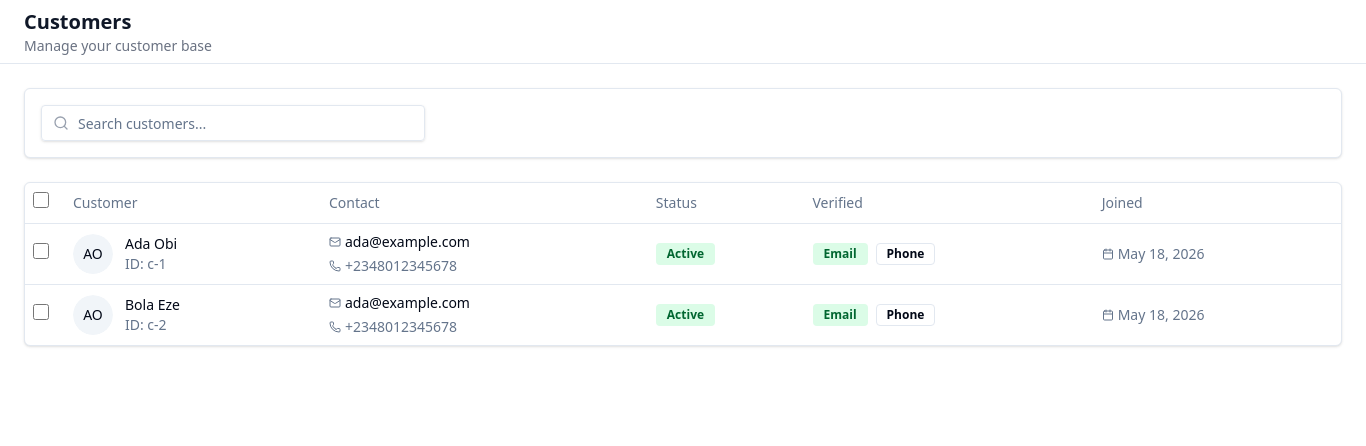
it: CustomersPage bulk delete › shows the bulk bar only once a row is selected
Expected: the row with test id "customers-row-c-1" is shown, [25, 223, 1341, 284]
Click the checkbox with test id "customers-select-c-1" at (41, 251), box [33, 243, 49, 259]
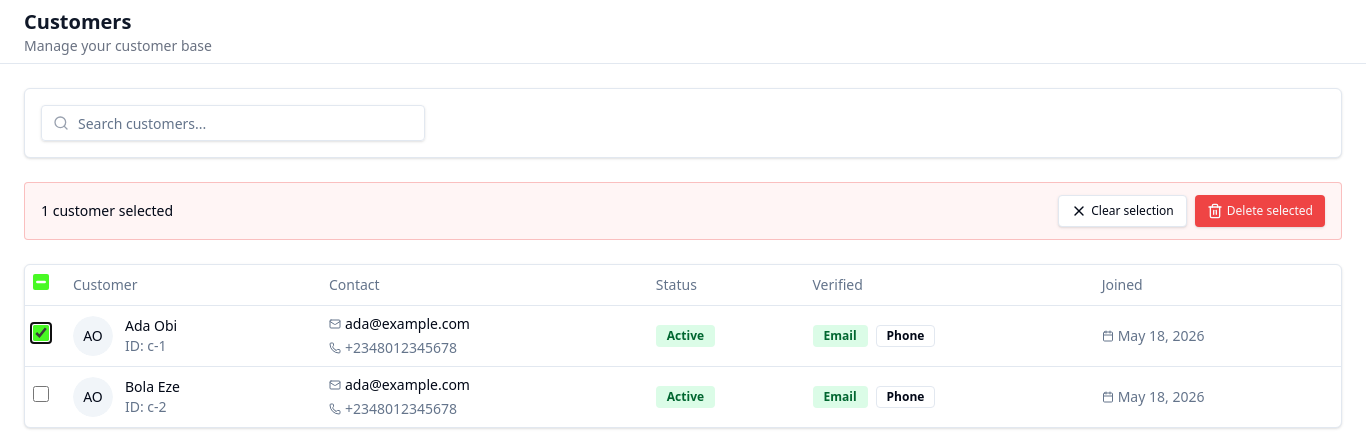
Now the element with test id "bulk-delete-bar" shows "1 customer selected", box [24, 182, 1342, 240]
